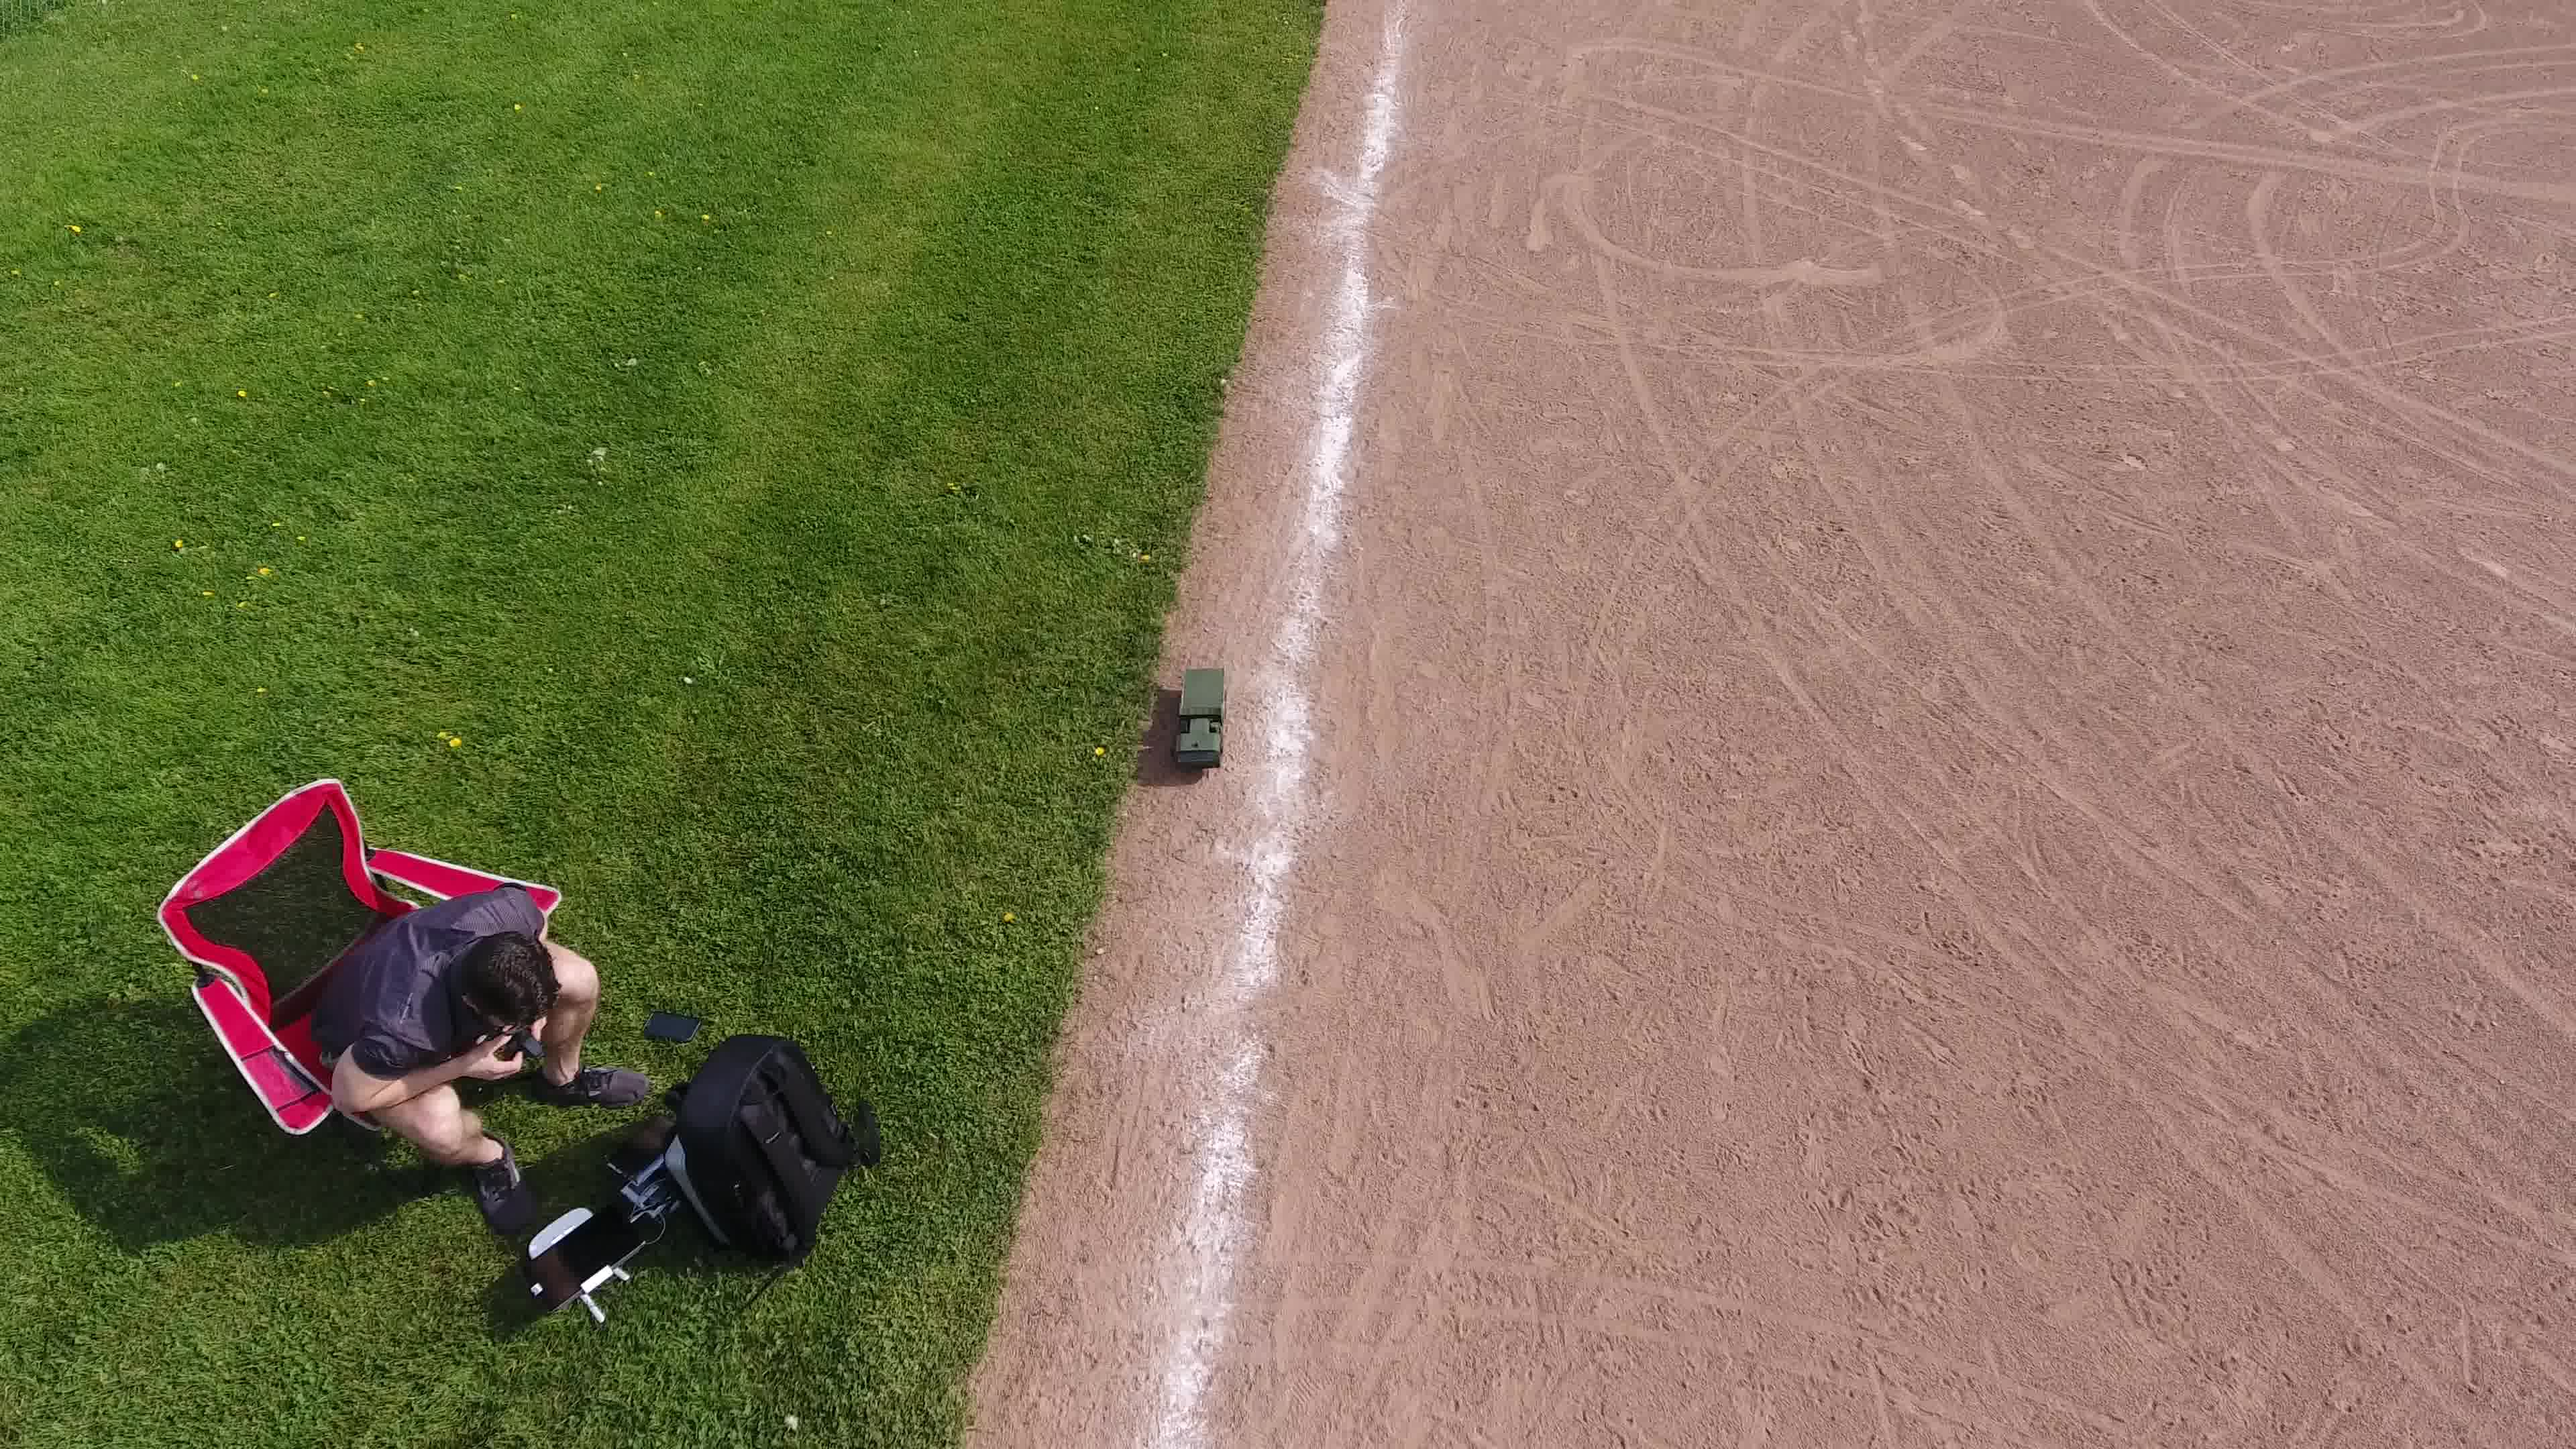transporter9: (1166, 662, 1235, 775)
